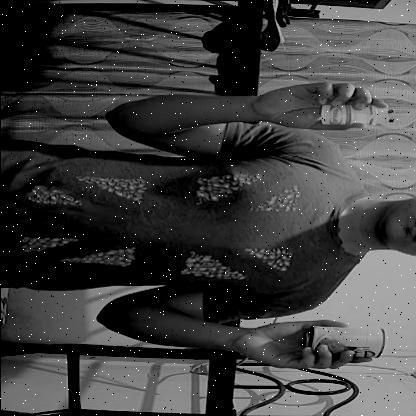Can: (302, 326, 388, 364)
Others: (315, 90, 400, 142)
